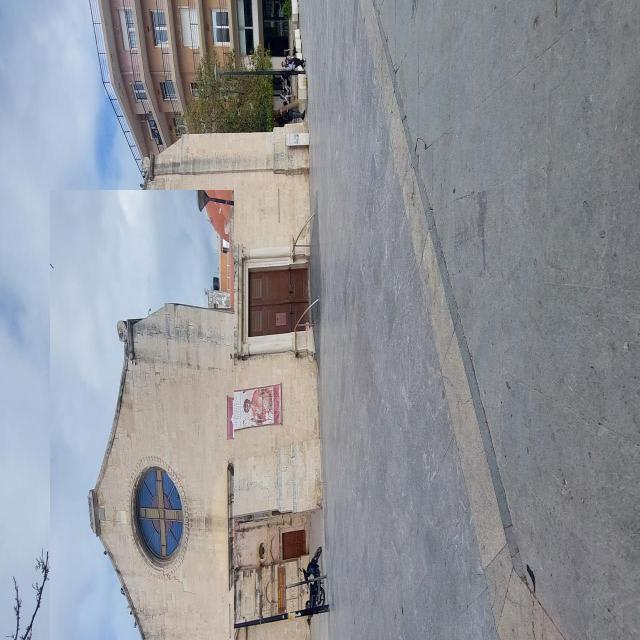Agia Aikaterini: (51, 191, 235, 640)
